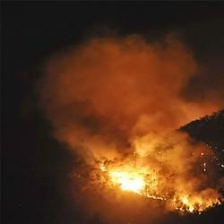fire: (91, 149, 222, 215)
smoke: (46, 36, 177, 137)
